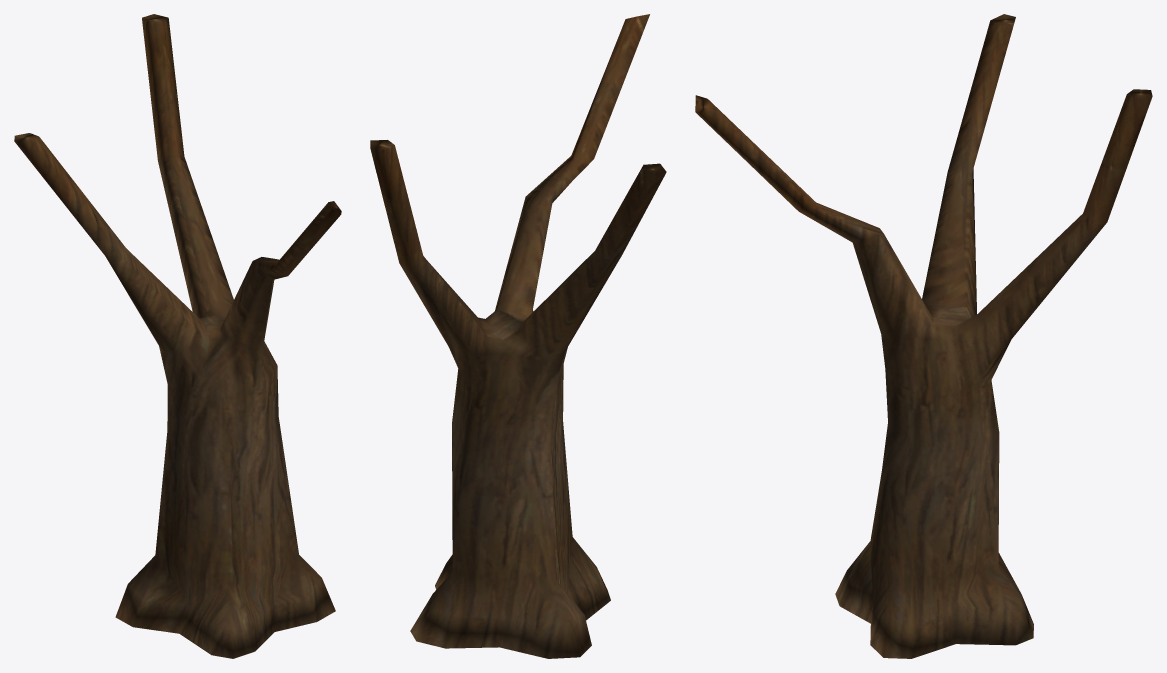
File: branch.fbx
3 views of the same model, side by side, from view 1: azimuth 30°, elevation 25°; view 2: azimuth 150°, elevation 25°; view 3: azimuth 270°, elevation 25° (orthographic). The views are drawn at different scales.
Parts seen in each view (by area): view 1: Stem__TreeSlipBody; view 2: Stem__TreeSlipBody; view 3: Stem__TreeSlipBody.
Boxes of the visible parts, left/top/right/bottom form: Stem__TreeSlipBody: left=14, top=14, right=341, bottom=658; Stem__TreeSlipBody: left=370, top=14, right=666, bottom=658; Stem__TreeSlipBody: left=695, top=14, right=1152, bottom=658.
Size of the model in its own units: 156 by 290 by 224.
Materials: 1 (1 with a texture image).
